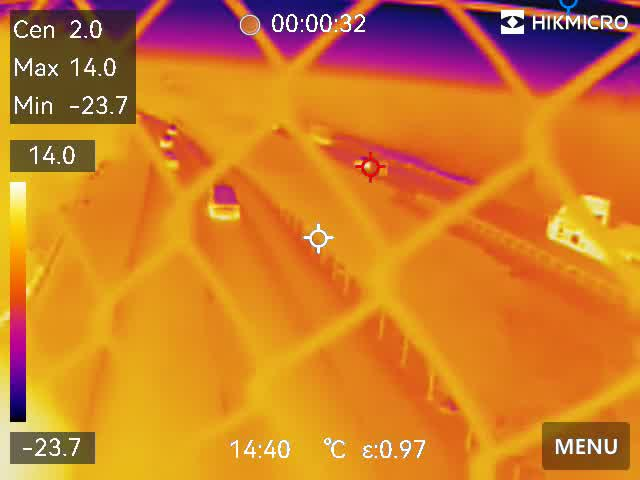heavyTruck: (545, 190, 640, 257)
vehicle: (207, 183, 241, 223), (165, 151, 183, 174), (163, 123, 180, 135), (159, 135, 173, 149)
